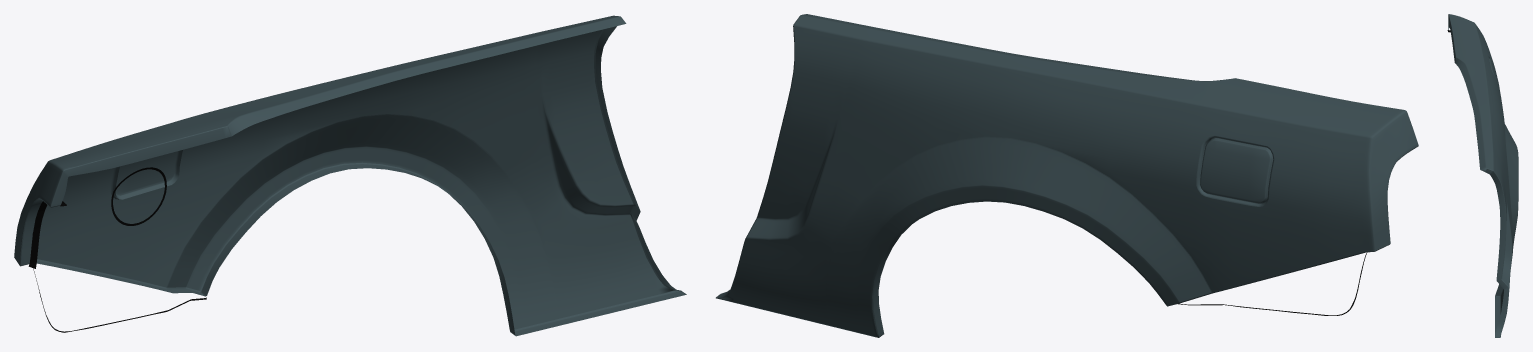
3 views of the same model, side by side, from view 1: azimuth 30°, elevation 25°; view 2: azimuth 150°, elevation 25°; view 3: azimuth 270°, elevation 25° (orthographic). The views are drawn at different scales.
Parts seen in each view (by area): view 1: P222_15_381B_L_1_DaS_P222_15_381B_L, P222_15_381B_L_1_DaS_P222_15_381B_L_E, P222_15_381B_L_P222_15_381B_L_2_D; view 2: P222_15_381B_L_1_DaS_P222_15_381B_L, P222_15_381B_L_1_DaS_P222_15_381B_L_E; view 3: P222_15_381B_L_1_DaS_P222_15_381B_L, P222_15_381B_L_1_DaS_P222_15_381B_L_E.
Part boxes in pixels (x1=…): P222_15_381B_L_1_DaS_P222_15_381B_L: x1=14, y1=15, x2=686, y2=336; P222_15_381B_L_1_DaS_P222_15_381B_L_E: x1=19, y1=16, x2=678, y2=331; P222_15_381B_L_P222_15_381B_L_2_D: x1=28, y1=167, x2=206, y2=332; P222_15_381B_L_1_DaS_P222_15_381B_L: x1=716, y1=14, x2=1418, y2=337; P222_15_381B_L_1_DaS_P222_15_381B_L_E: x1=716, y1=15, x2=1418, y2=337; P222_15_381B_L_1_DaS_P222_15_381B_L: x1=1448, y1=14, x2=1518, y2=337; P222_15_381B_L_1_DaS_P222_15_381B_L_E: x1=1448, y1=27, x2=1513, y2=337.
Size of the model in its own units: 172 by 77.48 by 31.04.
